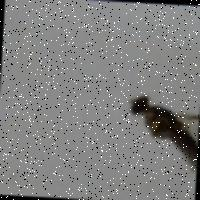Oriental-fruit-fly: (118, 90, 200, 177)
